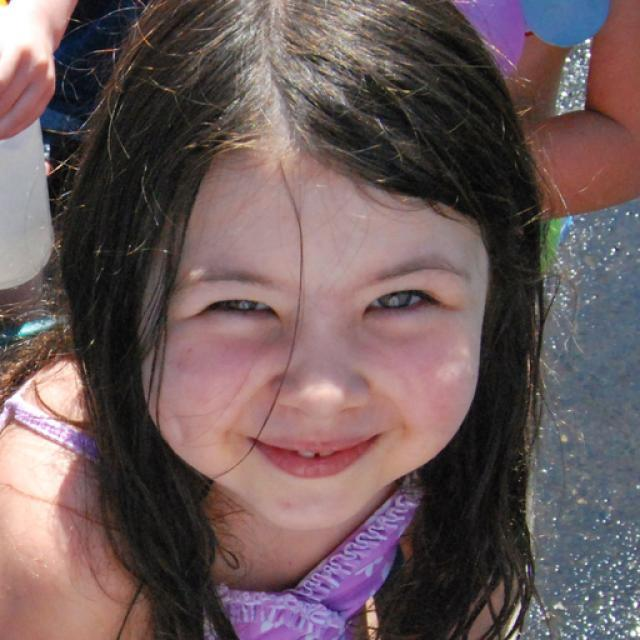happy: (150, 150, 488, 536)
